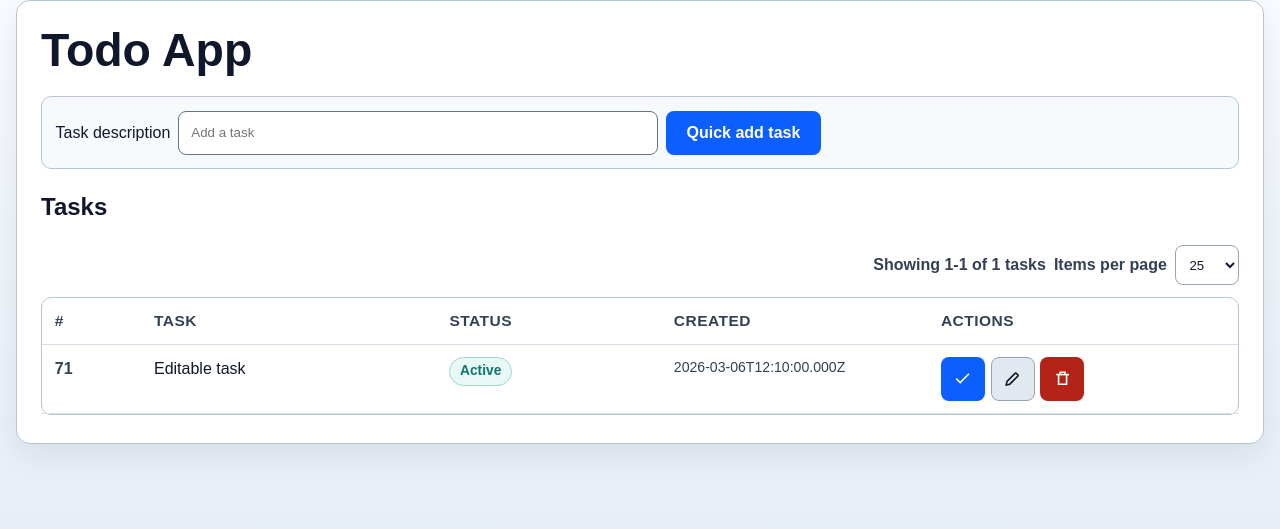
Test: Task list and quick-add flows › supports inline edit save and persists updated description through PATCH
Expected: the text "Editable task" is shown, [154, 360, 246, 377]
Click the button named "Edit task \"Editable task\"" at (1012, 379), box [990, 357, 1034, 401]
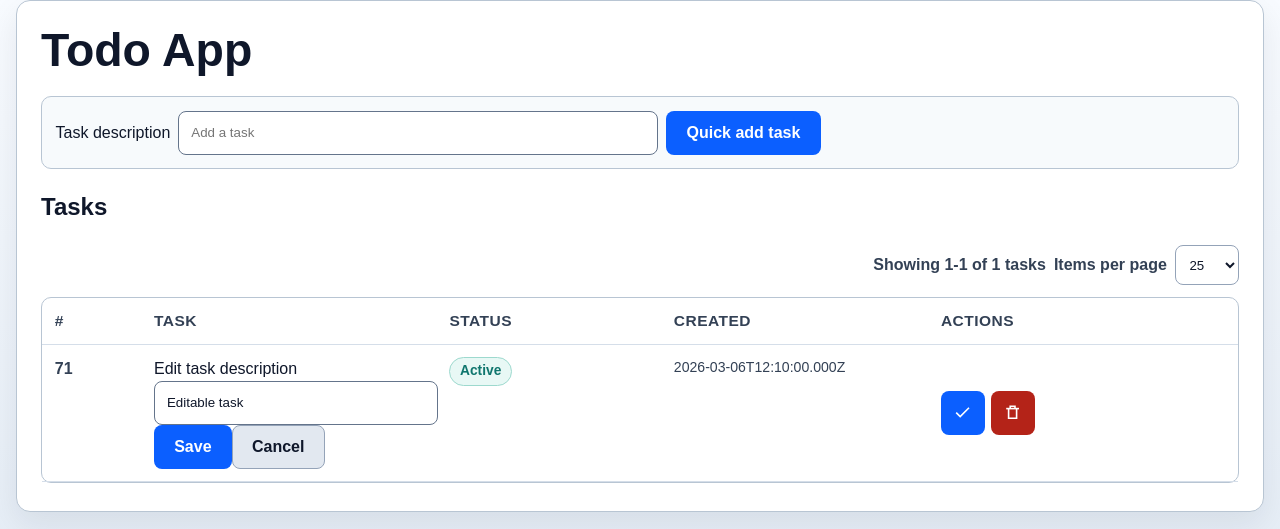
Replace the text in the field named "Edit description for task \"Editable task\"" with "Updated editable task" at (296, 403), box [154, 381, 438, 425]
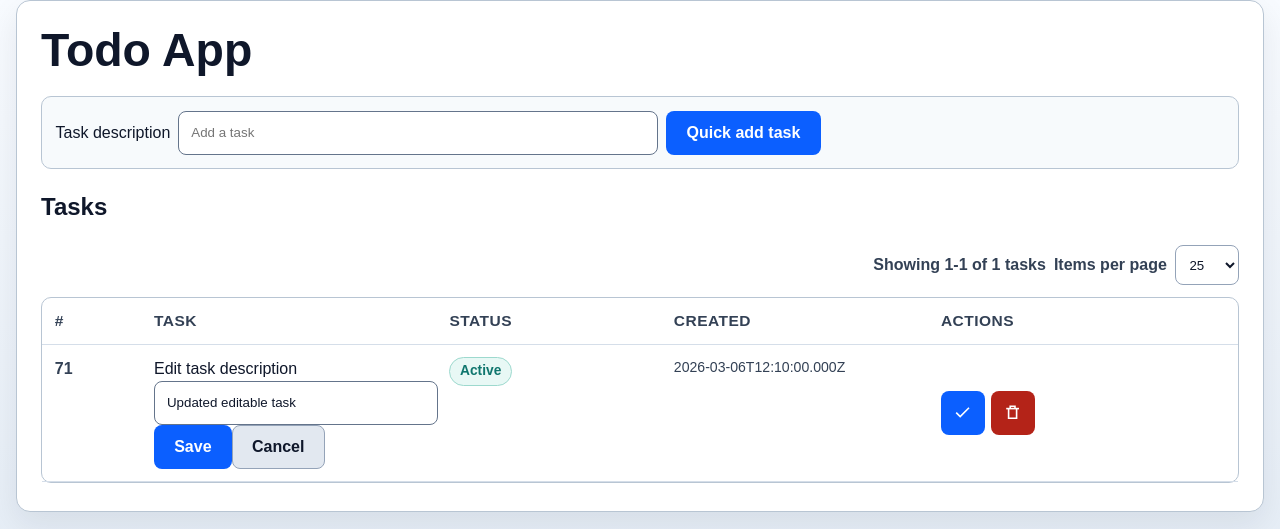
Press Enter in the field named "Edit description for task \"Editable task\"", box [154, 381, 438, 425]
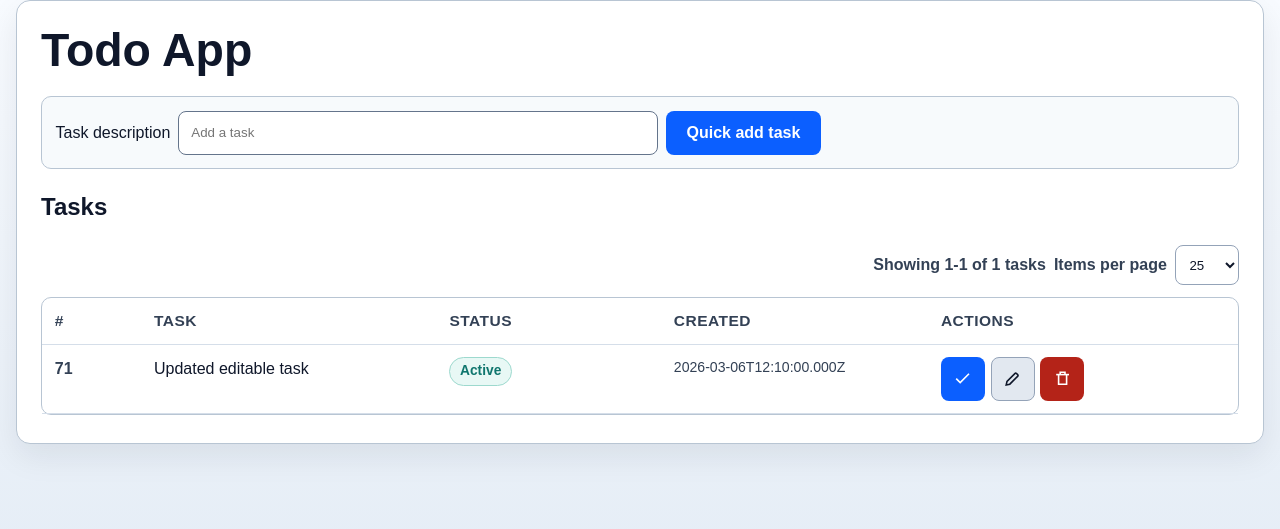
Result: the text "Updated editable task" is shown at [154, 360, 309, 377]
